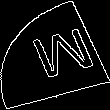M_S: (17, 23, 93, 87)
